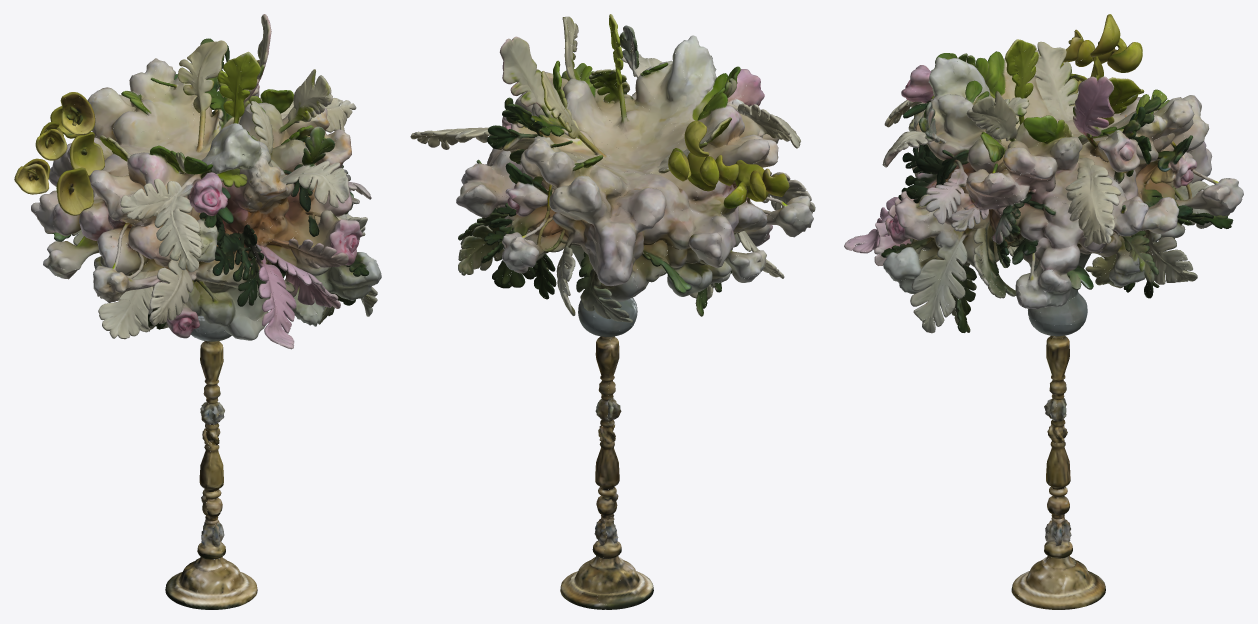
The model's file is gul2.glb.
3 views of the same model, side by side, from view 1: azimuth 30°, elevation 25°; view 2: azimuth 150°, elevation 25°; view 3: azimuth 270°, elevation 25° (orthographic).
Parts seen in each view (by area): view 1: gul; view 2: gul; view 3: gul.
Part boxes in pixels (<box>): gul: <box>14,14,381,609</box>; gul: <box>410,14,815,609</box>; gul: <box>844,14,1243,609</box>.
Size of the model in its own units: 0.6661 by 0.9795 by 0.6348.
1 material, 1 textured.
